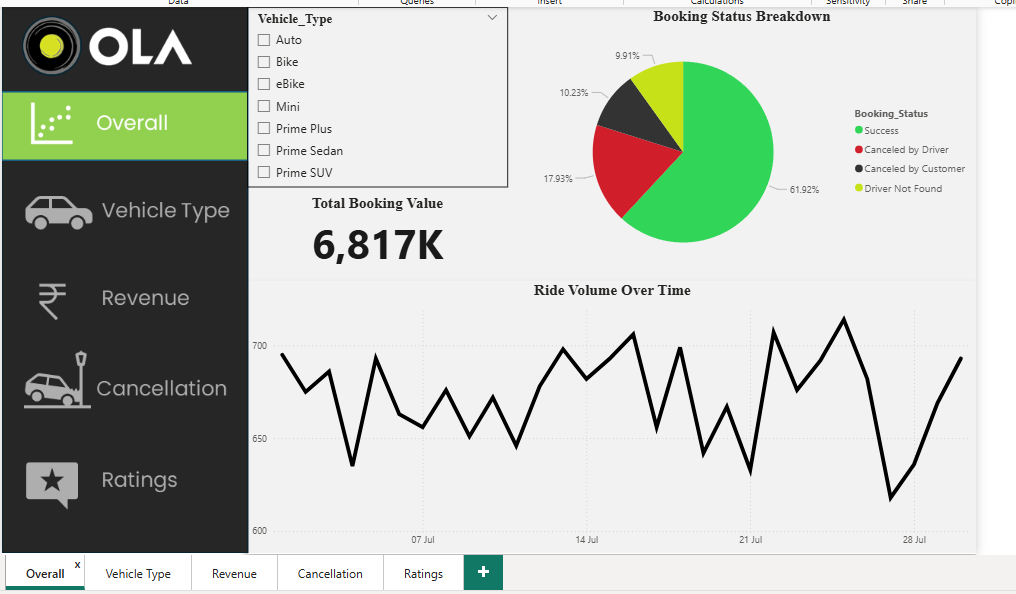

What the dashboard file says about the page in this screenshot:
{"tool":"powerbi","page":{"name":"Overall","canvas":[1280,720],"ordinal":0},"visuals":[{"type":"lineChart","title":"Ride Volume Over Time","fields":{"Y":["CountNonNull(Bookings.Booking_ID)"],"Category":["Bookings.Date"]},"box":[322.6,360,957.6,358.6],"z":0},{"type":"pieChart","title":"Booking Status Breakdown","fields":{"Category":["Bookings.Booking_Status"],"Y":["CountNonNull(Bookings.Booking_ID)"]},"box":[664.8,0,615.2,359.2],"z":1000},{"type":"slicer","fields":{"Values":["Bookings.Vehicle_Type"]},"box":[322.1,0,342.7,236.7],"z":2000},{"type":"card","title":"Total Booking Value","fields":{"Values":["Sum(Bookings.Booking_Value)"]},"box":[322.5,236.9,342.7,122.6],"z":3000}]}

Visuals, with their boxes on the page's 1280x720 design canvas (x1, y1, x2, y2). These are canvas units, not pixel positions in the 1016x594 screenshot, which may show the page scaled, cropped or inside an application window:
"Ride Volume Over Time" lineChart: crop(323, 360, 1280, 719)
"Booking Status Breakdown" pieChart: crop(665, 0, 1280, 359)
slicer - Bookings.Vehicle_Type: crop(322, 0, 665, 237)
"Total Booking Value" card: crop(322, 237, 665, 360)
